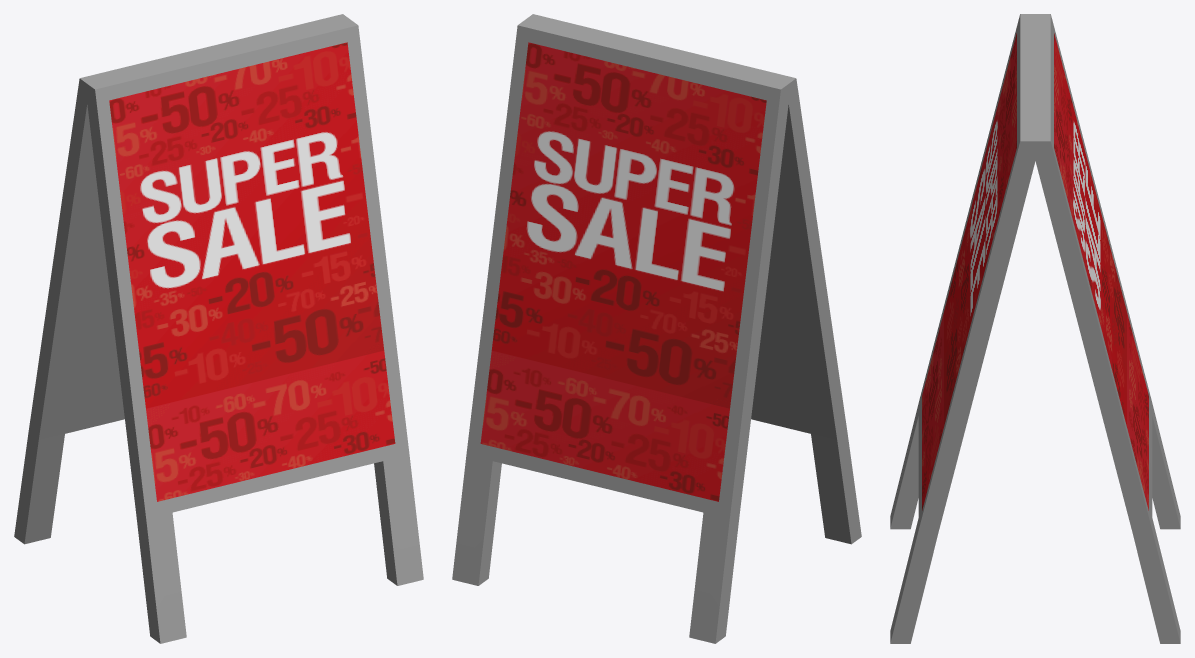
Rendered from Sales Board.fbx.
The picture shows the model from 3 angles, left to right: view 1: azimuth 30°, elevation 25°; view 2: azimuth 150°, elevation 25°; view 3: azimuth 270°, elevation 25°; orthographic projection.
Parts seen in each view (by area): view 1: polySurface1; view 2: polySurface1; view 3: polySurface1.
Boxes of the visible parts, bbox=[...] form: polySurface1: bbox=[14, 14, 423, 643]; polySurface1: bbox=[452, 14, 861, 643]; polySurface1: bbox=[890, 14, 1180, 643].
Size of the model in its own units: 10.52 by 19.34 by 10.13.
Materials: 2 (1 with a texture image).
